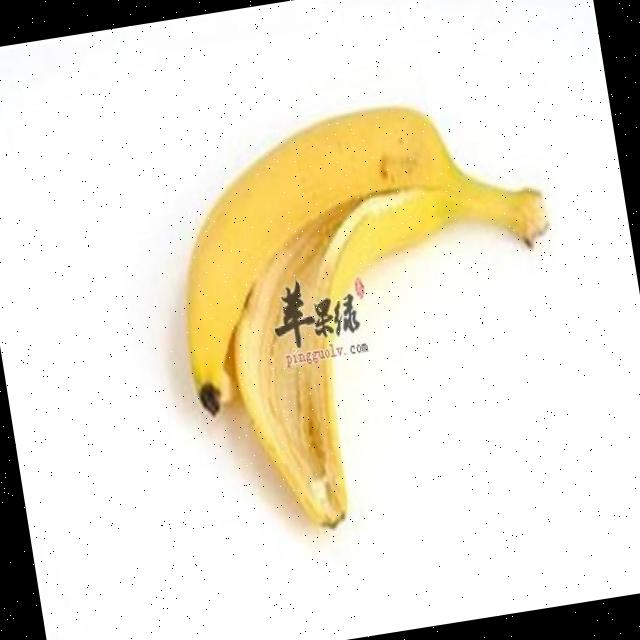banana-peel: (153, 81, 592, 547)
